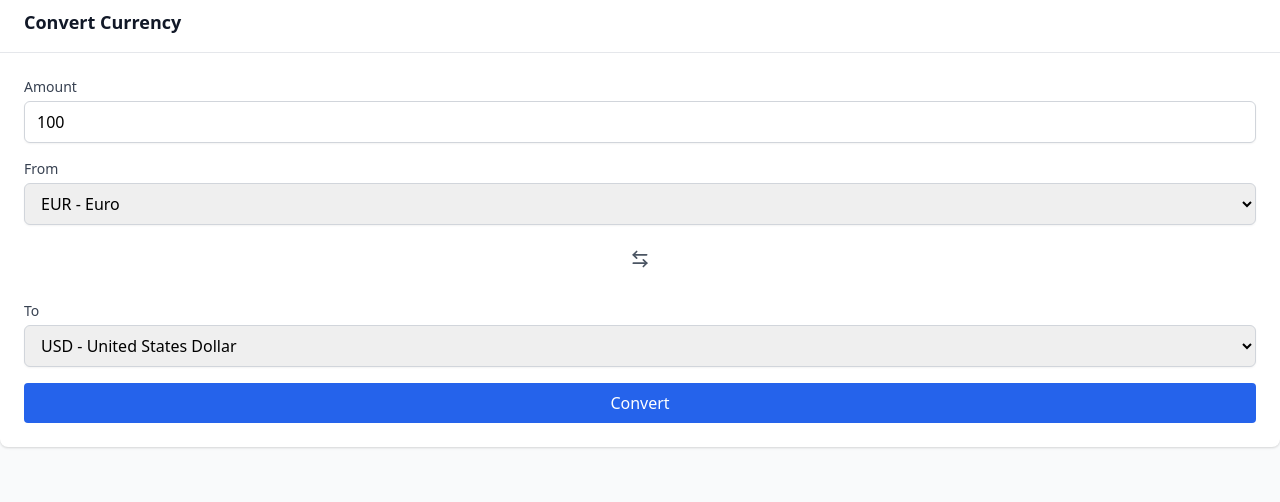
Test case: ConversionForm › validates amount is positive
Replace the text in the number field labelled "Amount" with "0" at (640, 122), box top-left (24, 101), bottom-right (1256, 143)
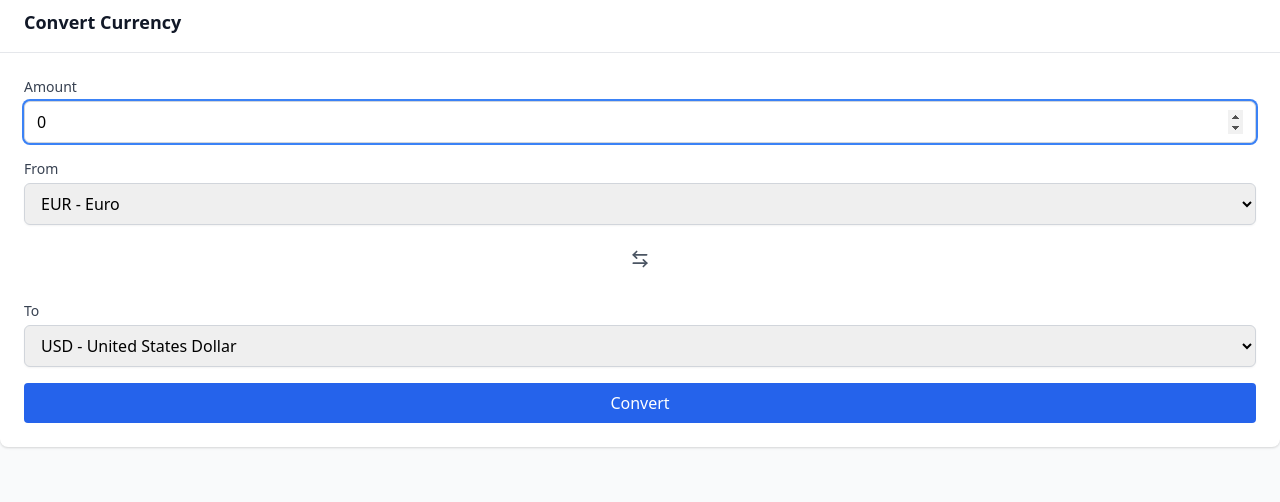
Click the button "Convert".
click(640, 403)  # box top-left (24, 383), bottom-right (1256, 423)
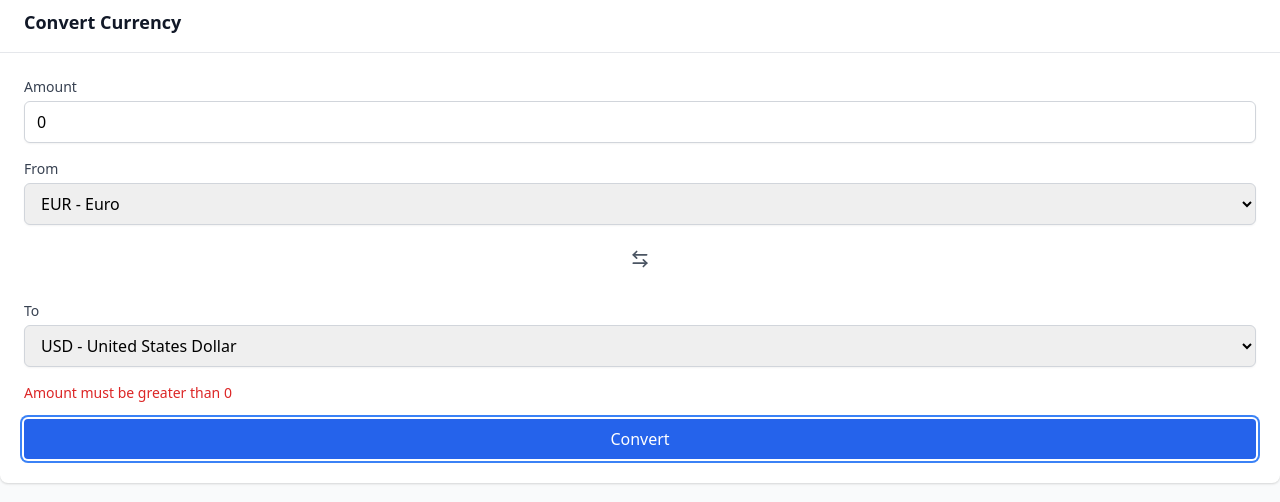
Expected: the text "Amount must be greater than 0" is shown, top-left (24, 383), bottom-right (232, 402)
